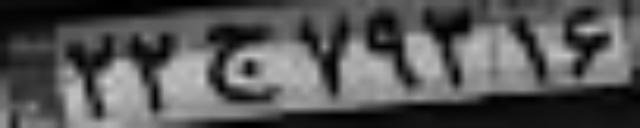1: (507, 14, 554, 83)
2: (59, 31, 120, 120), (126, 31, 177, 113)
3: (423, 6, 477, 88)
6: (557, 6, 625, 78)
7: (296, 8, 355, 97)
9: (360, 8, 420, 89)
jim: (201, 21, 282, 103)
